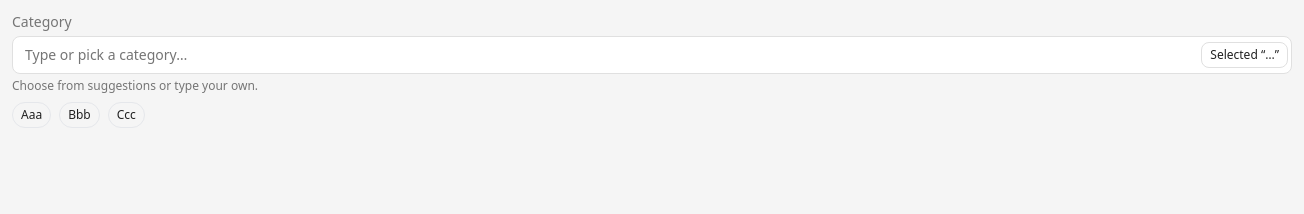
Test case: CategorySelect › arrow keys move active option; Escape closes list
Focus the field at (652, 55), box 12,36 -> 1292,74
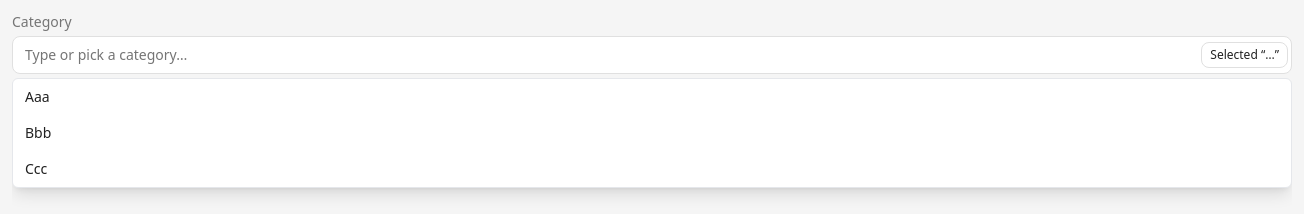
Press ArrowDown in the field, box 12,36 -> 1292,74
Press Enter in the field, box 12,36 -> 1292,74
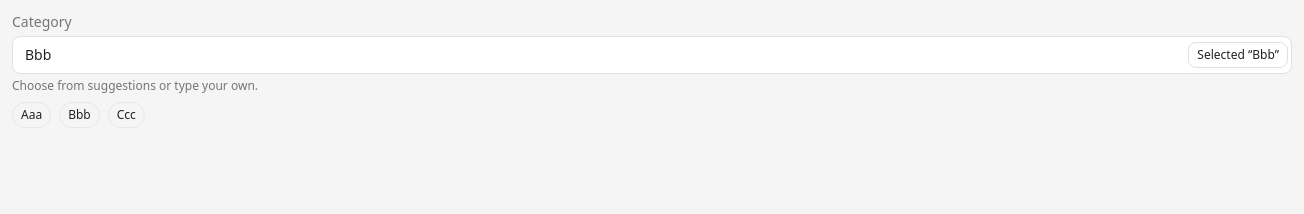
Focus the field at (652, 55), box 12,36 -> 1292,74
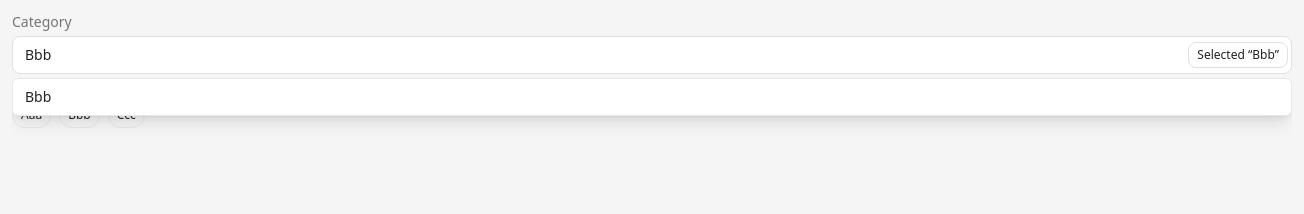
Press Escape in the field, box 12,36 -> 1292,74
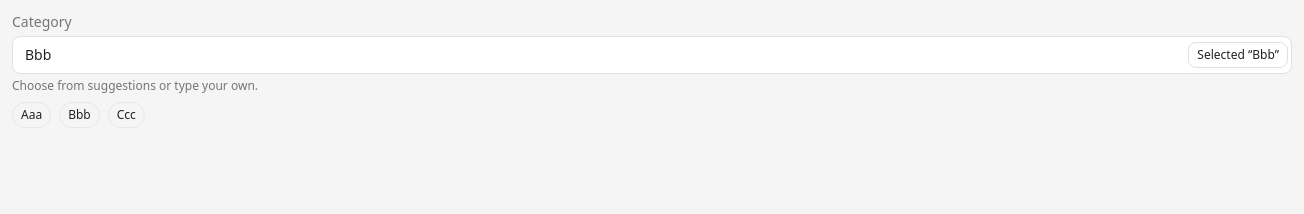
Result: the element with class "shadow-lg" is gone
